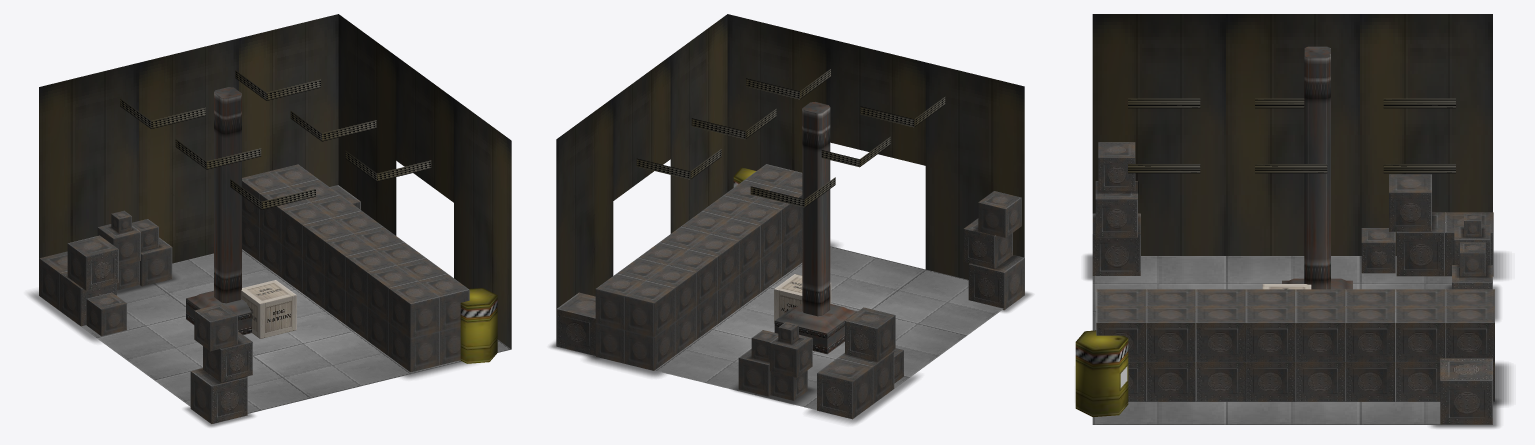
File: room_7.glb
3 views of the same model, side by side, from view 1: azimuth 30°, elevation 25°; view 2: azimuth 150°, elevation 25°; view 3: azimuth 270°, elevation 25° (orthographic). The views are drawn at different scales.
Parts seen in each view (by area): view 1: wall, floor, CBMetalBoxSides (×4), CBMetalBoxTop (×4), C1MetalBox3 (×3), shaft, gagTank1, EMetalBox3, EMetalBox6, CBWoodBoxSides, EMetalBox5, F1MetalBox5 (+12 smaller); view 2: wall, floor, CBMetalBoxSides (×5), CBMetalBoxTop (×5), shaft, C1MetalBox3 (×3), EMetalBox3, EMetalBox6, head, F1MetalBox2, F1MetalBox5, F1MetalBox (+10 smaller); view 3: wall, CBMetalBoxSides (×5), floor, CBMetalBoxTop (×5), shaft, C1MetalBox3 (×3), gagTank1, EMetalBox3, EMetalBox6, EMetalBox5, CBMetalBoxShadow (×2), F1MetalBox3 (+9 smaller).
Boxes of the visible parts, x1=… form: wall: x1=39, y1=14, x2=511, y2=349; floor: x1=39, y1=249, x2=511, y2=413; CBMetalBoxSides (×4): x1=242, y1=181, x2=469, y2=372; CBMetalBoxTop (×4): x1=242, y1=164, x2=469, y2=303; C1MetalBox3 (×3): x1=190, y1=304, x2=252, y2=423; shaft: x1=214, y1=87, x2=241, y2=303; gagTank1: x1=460, y1=288, x2=497, y2=363; EMetalBox3: x1=39, y1=251, x2=116, y2=326; EMetalBox6: x1=67, y1=235, x2=118, y2=290; CBWoodBoxSides: x1=241, y1=290, x2=296, y2=338; EMetalBox5: x1=86, y1=292, x2=126, y2=336; F1MetalBox5: x1=140, y1=237, x2=172, y2=286; wall: x1=556, y1=14, x2=1024, y2=345; floor: x1=556, y1=246, x2=1003, y2=418; CBMetalBoxSides (×5): x1=556, y1=195, x2=802, y2=370; CBMetalBoxTop (×5): x1=557, y1=164, x2=802, y2=318; shaft: x1=802, y1=102, x2=830, y2=316; C1MetalBox3 (×3): x1=963, y1=191, x2=1024, y2=310; EMetalBox3: x1=817, y1=351, x2=894, y2=419; EMetalBox6: x1=845, y1=307, x2=895, y2=361; head: x1=774, y1=304, x2=857, y2=354; F1MetalBox2: x1=770, y1=334, x2=812, y2=377; F1MetalBox5: x1=738, y1=348, x2=770, y2=396; F1MetalBox: x1=770, y1=370, x2=807, y2=400; wall: x1=1092, y1=14, x2=1492, y2=255; CBMetalBoxSides (×5): x1=1096, y1=323, x2=1494, y2=424; floor: x1=1092, y1=256, x2=1492, y2=424; CBMetalBoxTop (×5): x1=1096, y1=289, x2=1494, y2=380; shaft: x1=1304, y1=46, x2=1330, y2=289; C1MetalBox3 (×3): x1=1092, y1=142, x2=1140, y2=275; gagTank1: x1=1075, y1=330, x2=1128, y2=417; EMetalBox3: x1=1396, y1=212, x2=1493, y2=276; EMetalBox6: x1=1389, y1=174, x2=1431, y2=231; EMetalBox5: x1=1361, y1=228, x2=1395, y2=273; CBMetalBoxShadow (×2): x1=1430, y1=362, x2=1510, y2=428; F1MetalBox3: x1=1460, y1=242, x2=1485, y2=276.
Bounding box in the file's own units: 48.47 × 33.39 × 50.79.
Materials: 17 (16 with a texture image).
